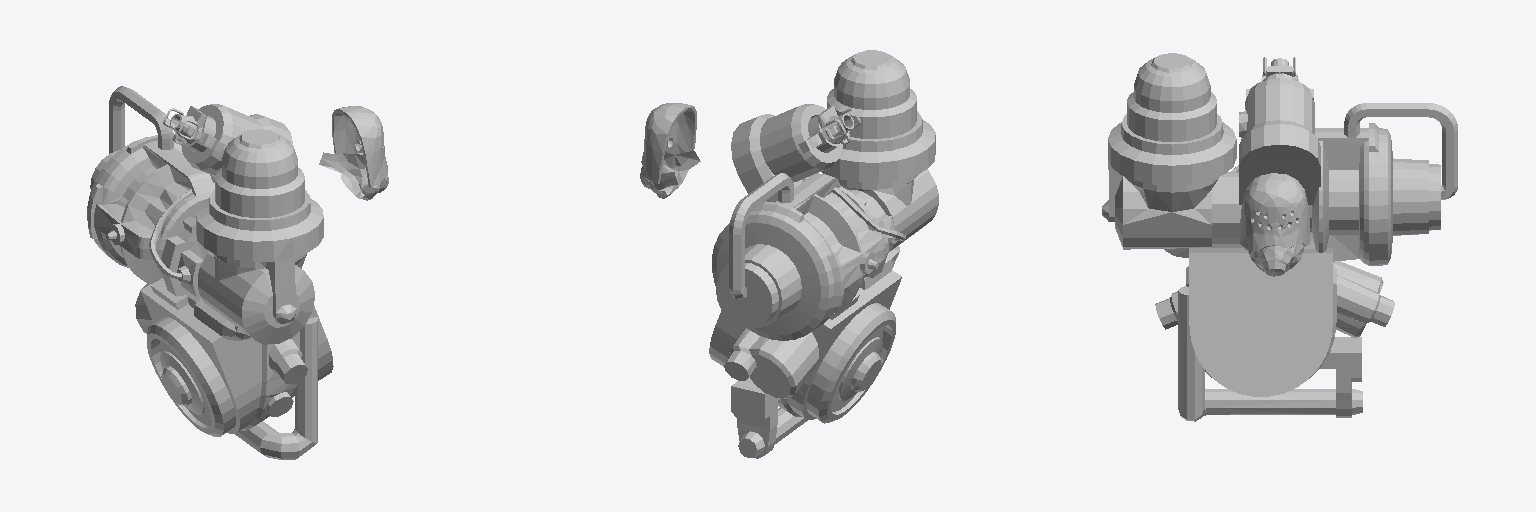
The model's file is mask.obj.
3 views of the same model, side by side, from view 1: azimuth 30°, elevation 25°; view 2: azimuth 150°, elevation 25°; view 3: azimuth 270°, elevation 25° (orthographic).
Parts seen in each view (by area): view 1: mesh22, mesh9, mesh24, mesh10; view 2: mesh22, mesh9, mesh24, mesh10; view 3: mesh22, mesh9, mesh10, mesh24.
Boxes of the visible parts, <box> form: mesh22: <box>87,86,333,459</box>; mesh9: <box>332,106,387,187</box>; mesh24: <box>163,106,225,153</box>; mesh10: <box>319,152,388,200</box>; mesh22: <box>709,50,938,458</box>; mesh9: <box>641,103,696,183</box>; mesh24: <box>798,106,860,153</box>; mesh10: <box>640,151,700,198</box>; mesh22: <box>1102,53,1457,421</box>; mesh9: <box>1240,173,1309,250</box>; mesh10: <box>1246,244,1304,276</box>; mesh24: <box>1246,57,1313,99</box>.
Size of the model in its own units: 48.86 by 61.85 by 58.6.